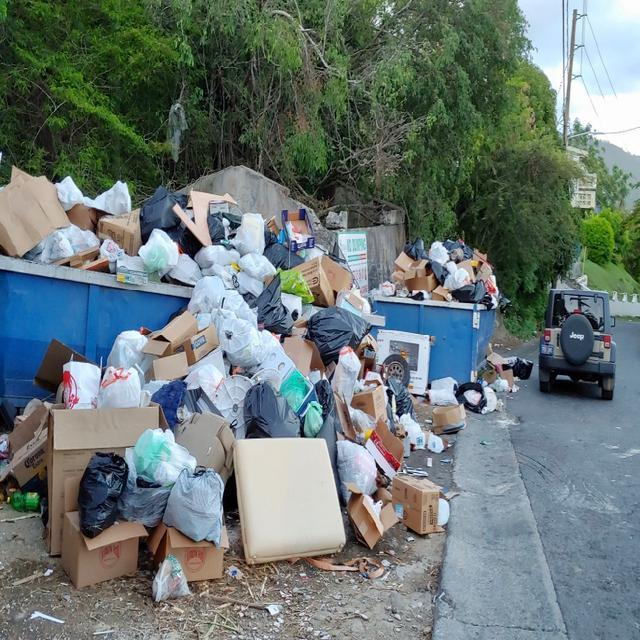garbage: (0, 278, 398, 603), (0, 162, 269, 292), (264, 200, 377, 305), (430, 347, 547, 439), (370, 238, 492, 306), (392, 460, 453, 548)
